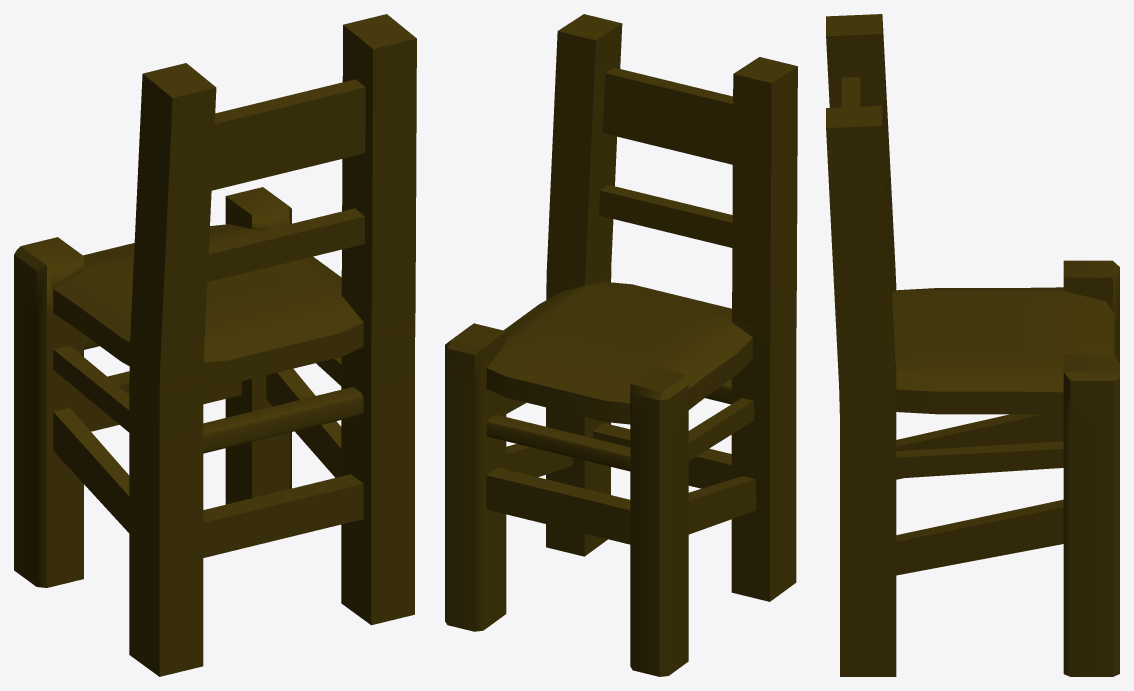
Rendered from silla.fbx.
3 renders of one model, left to right at view 1: azimuth 30°, elevation 25°; view 2: azimuth 150°, elevation 25°; view 3: azimuth 270°, elevation 25°, orthographic. The views are drawn at different scales.
Parts seen in each view (by area): view 1: pCube1; view 2: pCube1; view 3: pCube1.
Part boxes in pixels (box(x1,y1,x2,y2)): pCube1: box(14, 14, 416, 676); pCube1: box(445, 14, 797, 676); pCube1: box(826, 14, 1119, 676).
Size of the model in its own units: 1.96 by 4.28 by 2.08.
